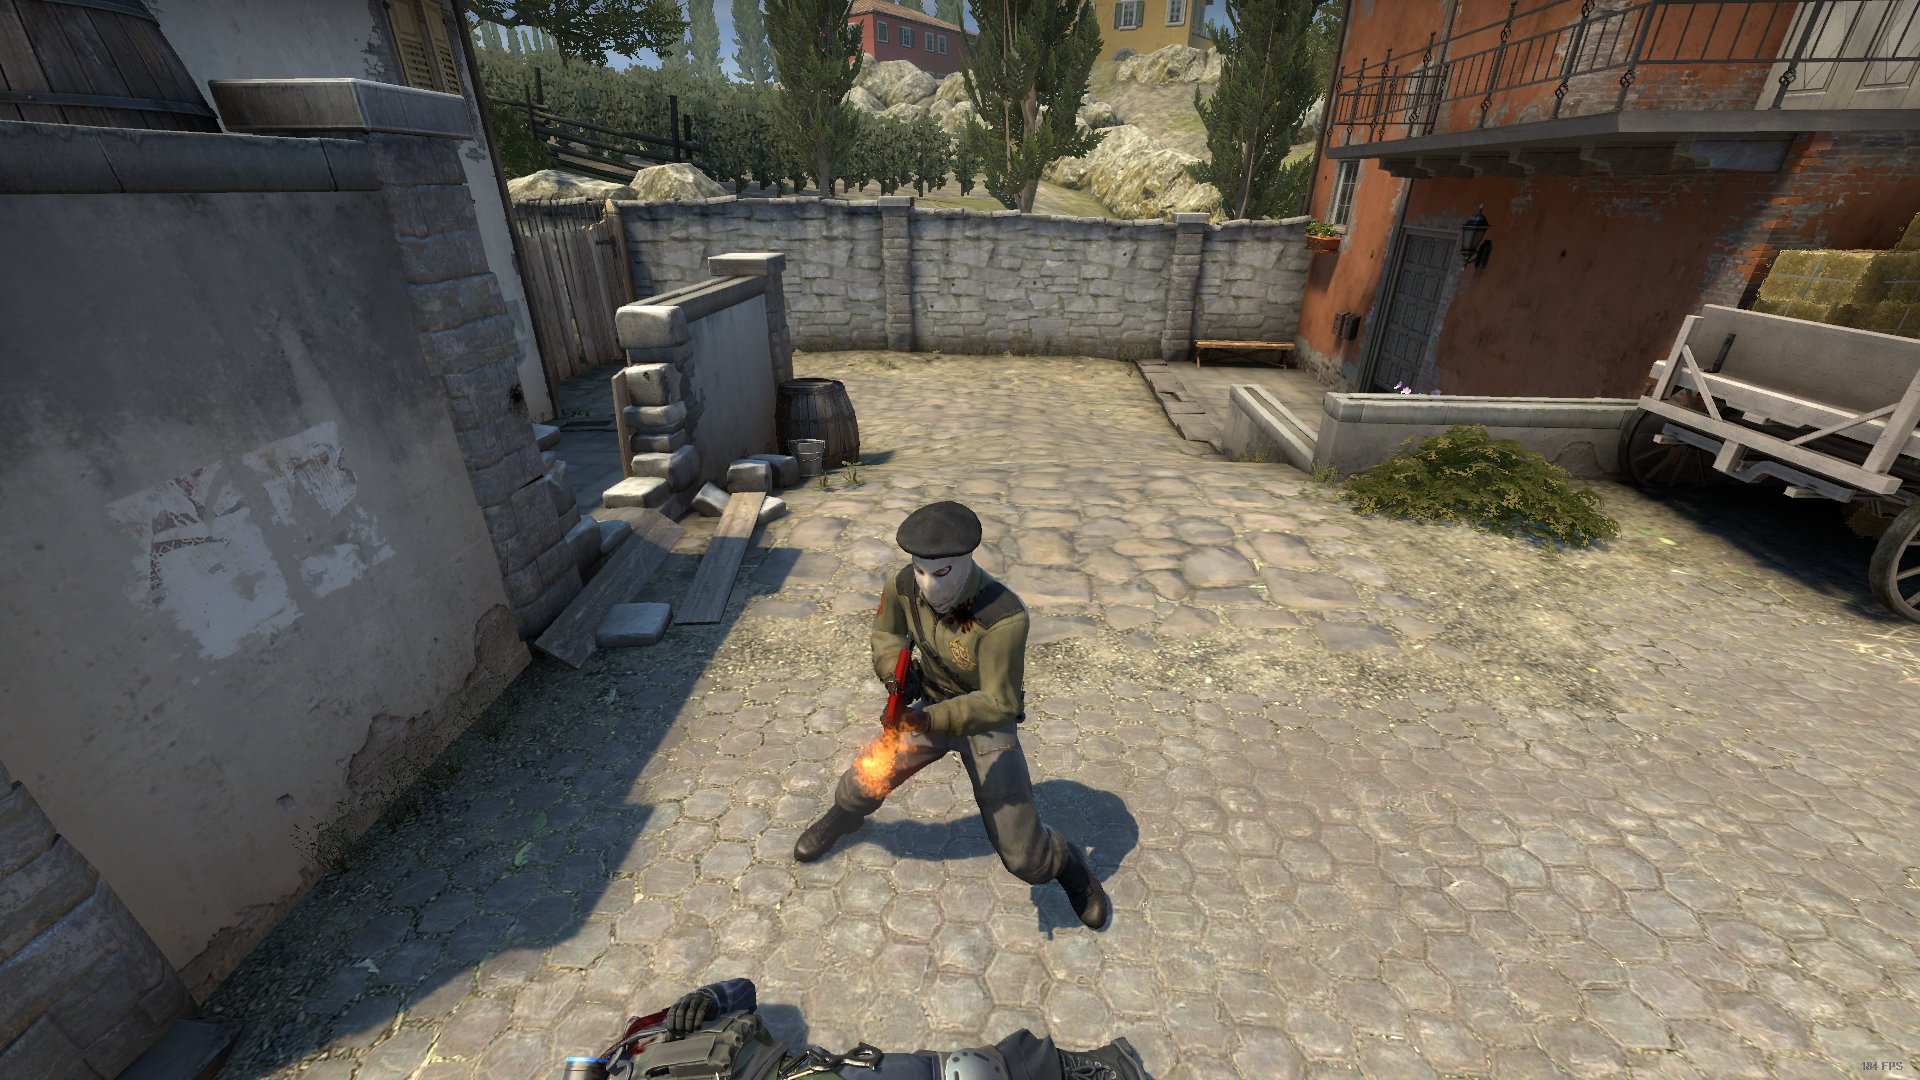t: (793, 498, 1110, 931)
